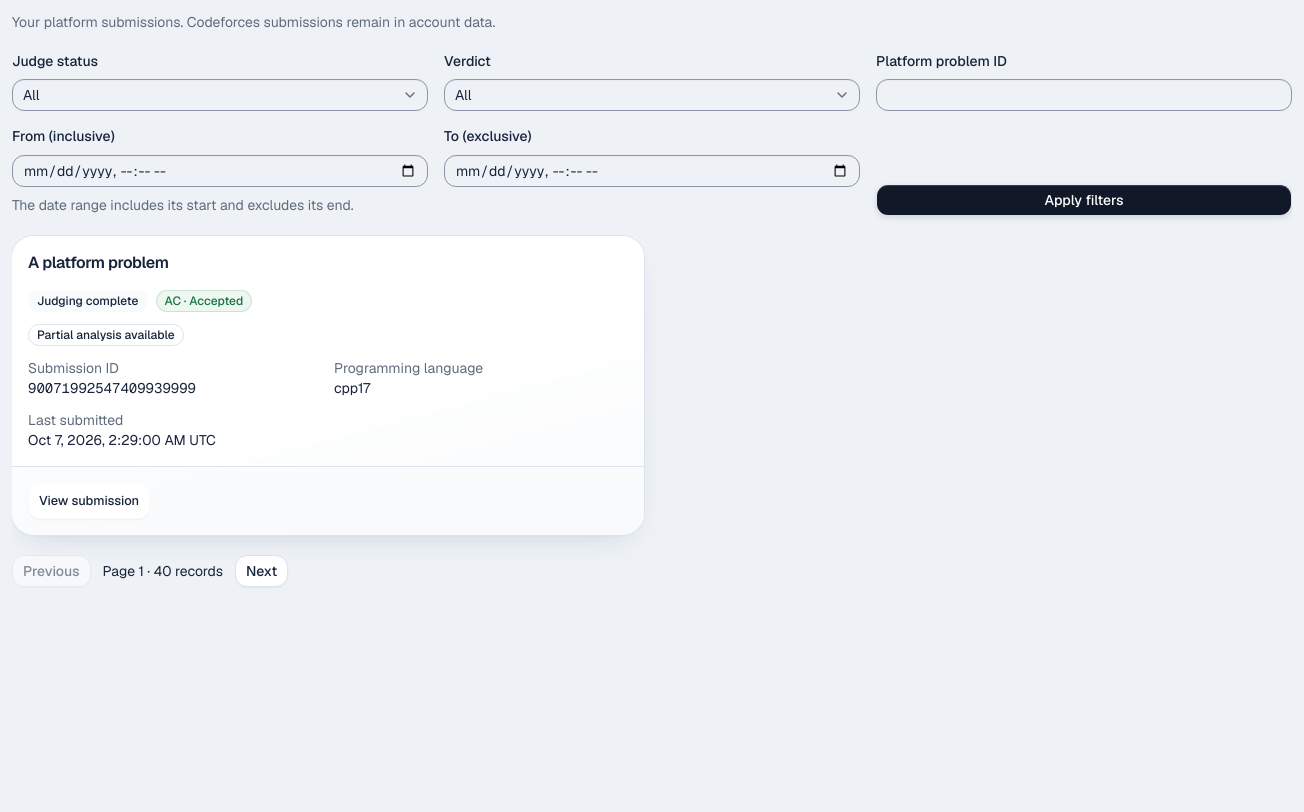
Test case: submission list filters and routes › blocks reversed dates accessibly without changing the query
Step 1. Type "2026-10-02T12:00" into the field labelled "From (inclusive)" → (220, 170), box [12,154,428,186]
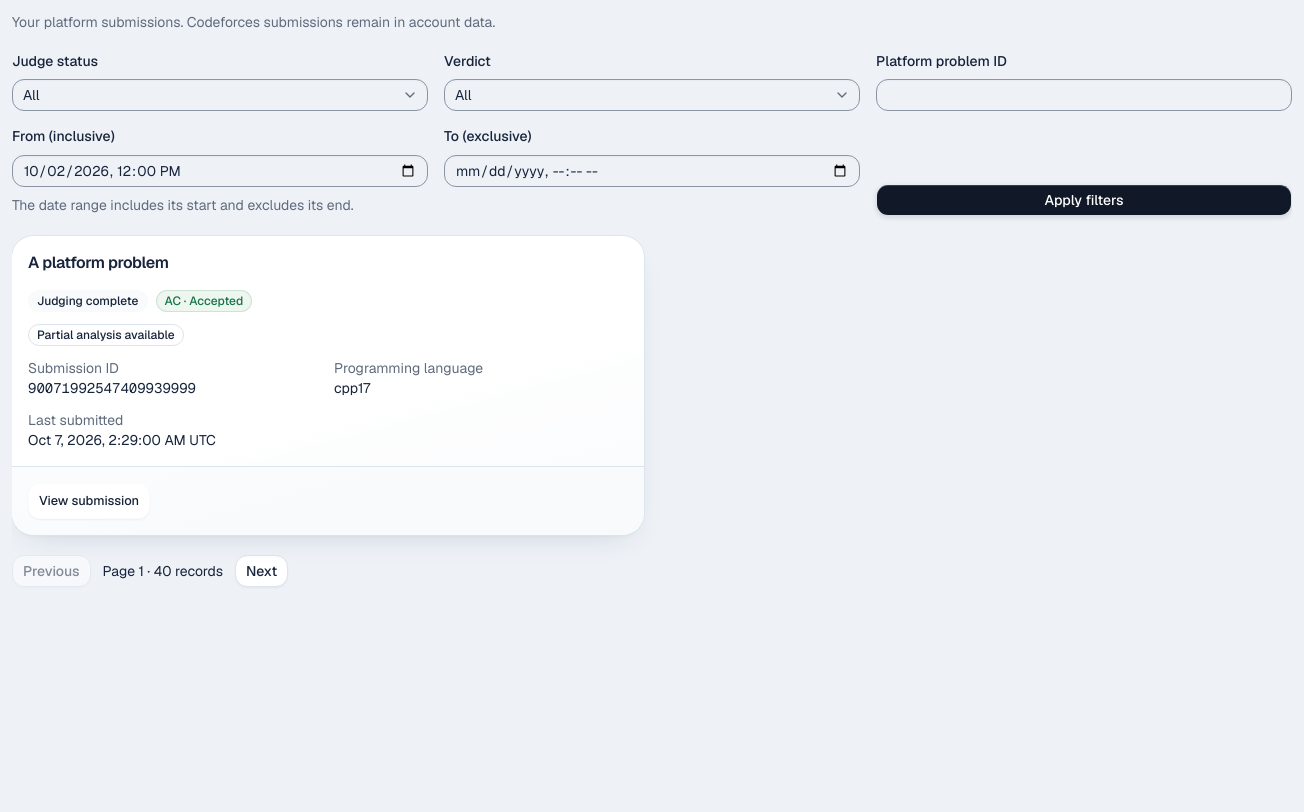
Step 2. Type "2026-10-01T12:00" into the field labelled "To (exclusive)" → (652, 170), box [444,154,860,186]
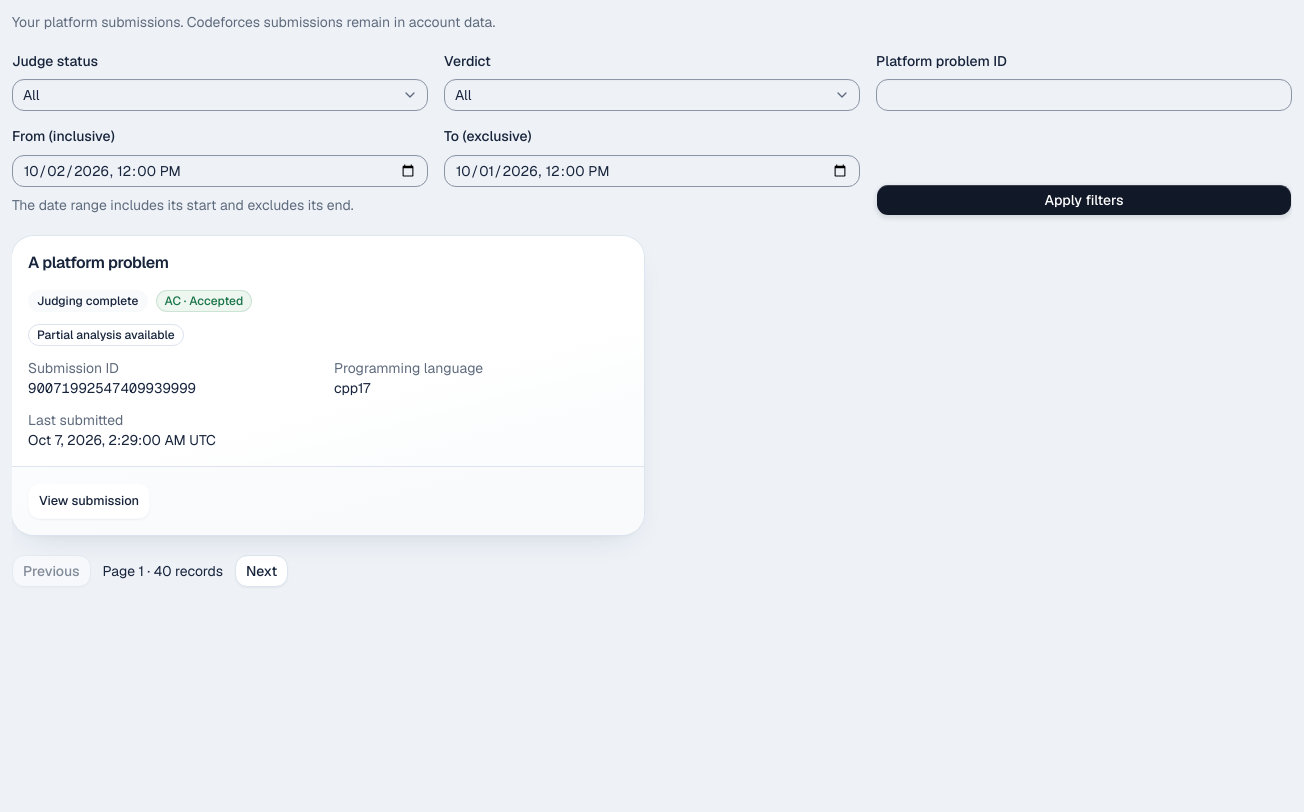
Step 3. Click the button "Apply filters" → click(1084, 200), box [876,184,1292,216]
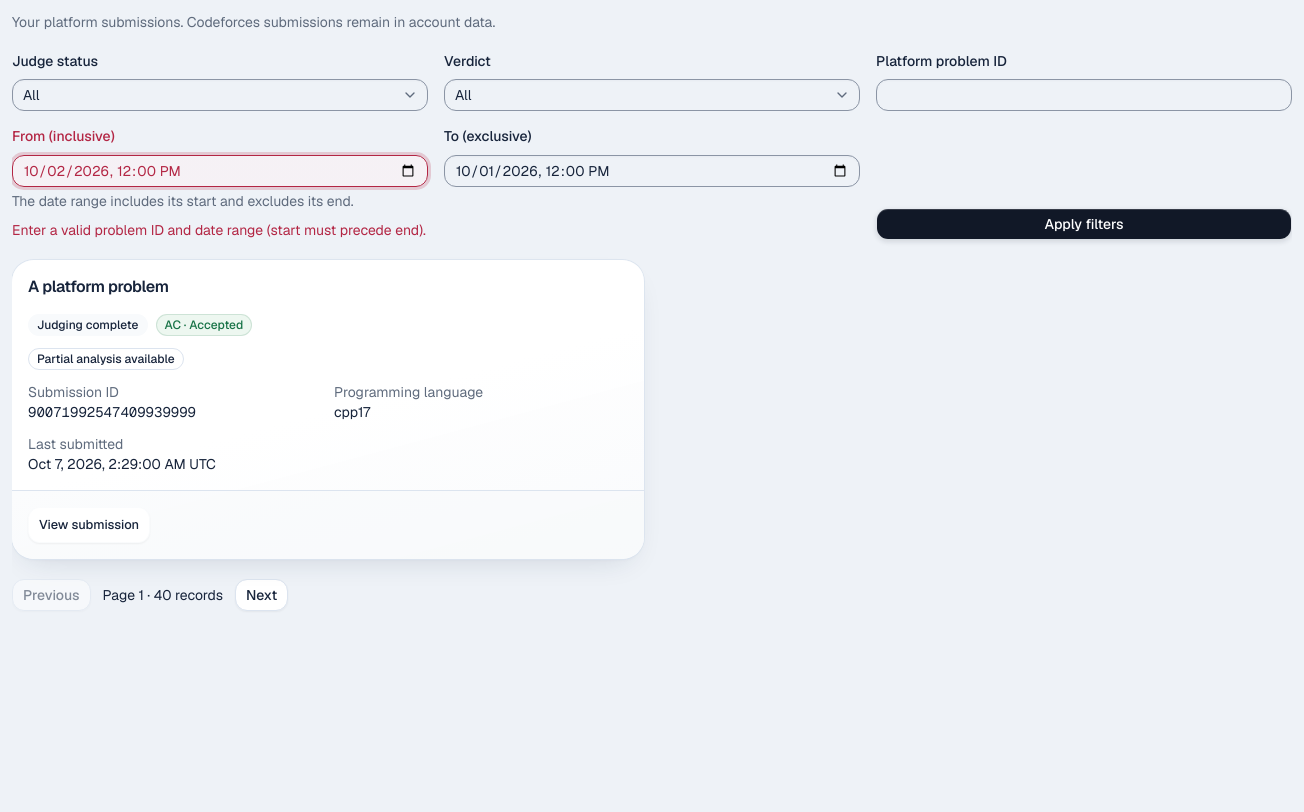
Result: the message shows "valid problem ID and date range" at [12,220,426,238]
